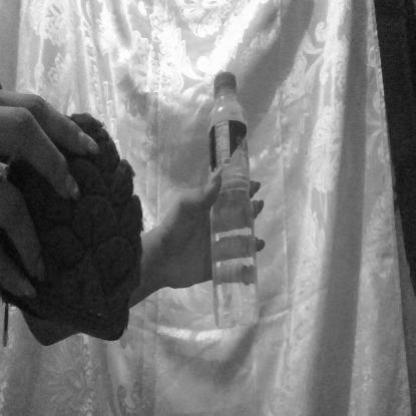Plastic Bottle: (195, 58, 290, 338)
